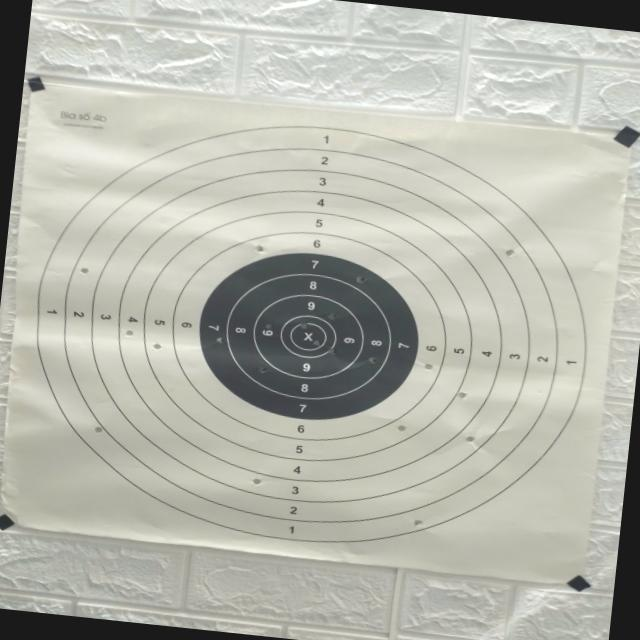bullet: (505, 248, 514, 256), (356, 275, 365, 283), (93, 425, 102, 433), (258, 366, 268, 373), (465, 435, 475, 442), (413, 519, 423, 526), (327, 311, 335, 319), (254, 244, 263, 251), (457, 391, 466, 398), (397, 425, 406, 432), (326, 347, 334, 354), (312, 339, 320, 346), (252, 478, 261, 484), (215, 336, 222, 343), (368, 357, 376, 363), (152, 343, 160, 349), (80, 267, 88, 273), (299, 322, 306, 328), (424, 364, 432, 369), (265, 323, 273, 328), (126, 330, 132, 336)
target: (1, 83, 628, 584)
